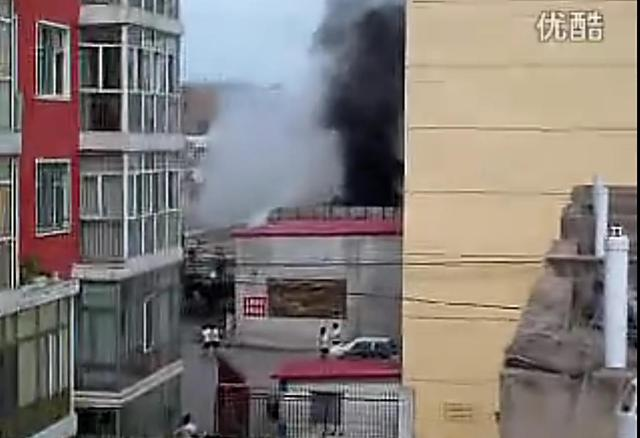smoke: (196, 81, 334, 210), (340, 80, 402, 203), (311, 0, 403, 78)
